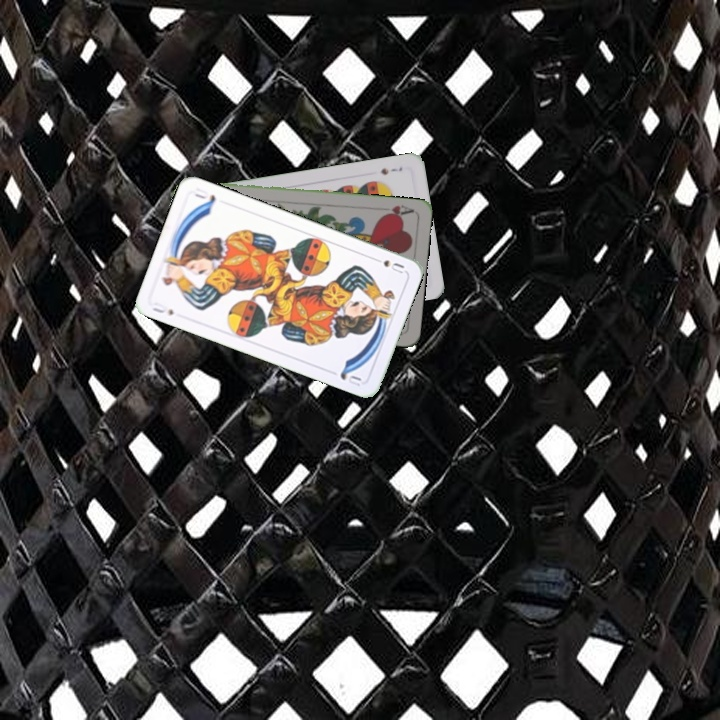HA: (377, 201, 416, 220)
S7: (377, 163, 405, 177)
SU: (368, 254, 407, 276), (148, 298, 176, 318)
